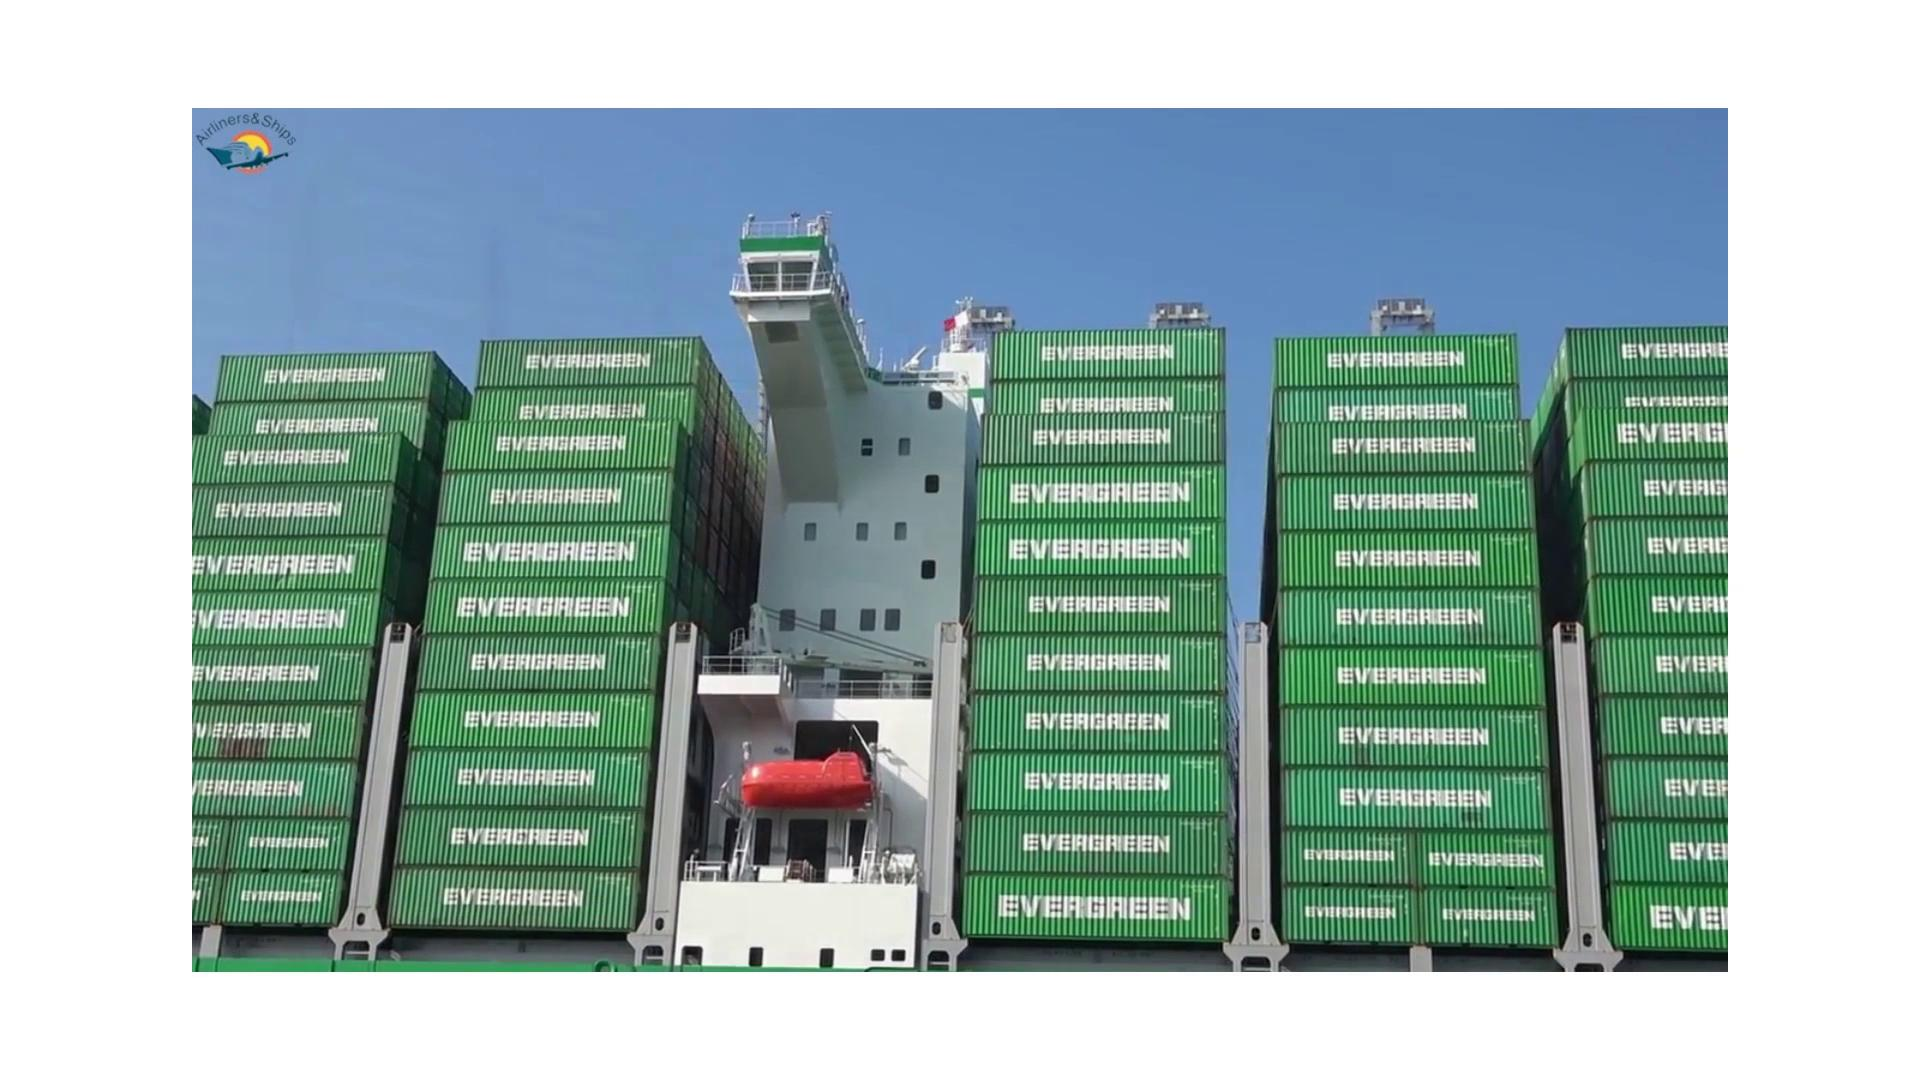OCR: (1014, 517, 1215, 560)
